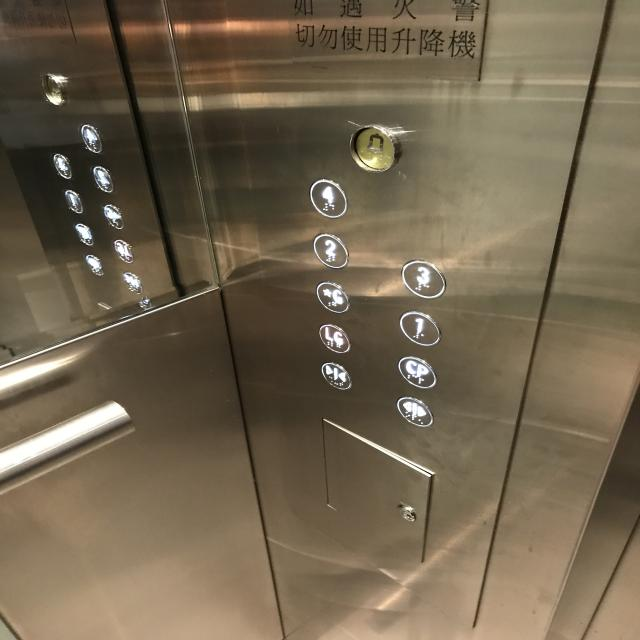1: (398, 310, 442, 348)
2: (310, 232, 350, 270)
3: (399, 258, 447, 300)
4: (308, 177, 348, 219)
CP: (395, 354, 438, 390)
LG: (317, 320, 351, 354)
alarm: (344, 123, 402, 174)
close: (319, 360, 354, 391), (120, 270, 144, 294)
open: (394, 394, 434, 429)
sG: (313, 278, 350, 314)
unknown: (40, 73, 67, 107), (79, 123, 104, 154), (91, 164, 115, 193), (102, 202, 125, 230), (112, 238, 136, 263), (51, 152, 73, 179), (62, 188, 84, 214), (83, 252, 104, 276), (74, 222, 95, 246)
